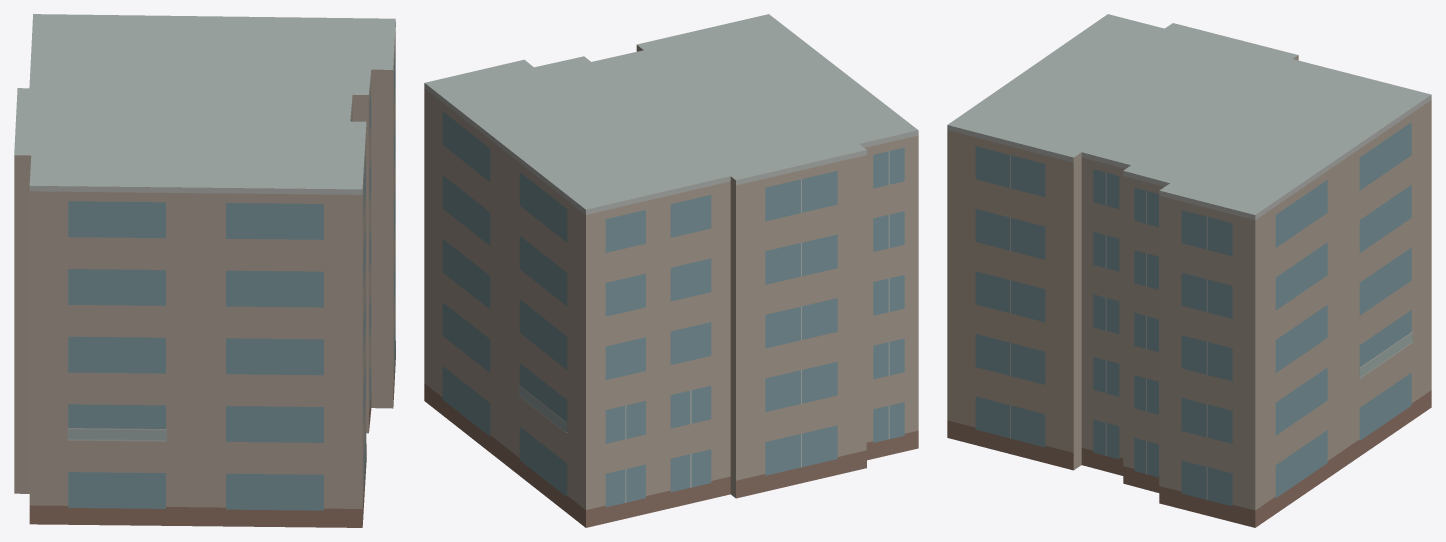
Rendered from survey-upis-32971404.glb.
The picture shows the model from 3 angles, left to right: view 1: azimuth 30°, elevation 25°; view 2: azimuth 150°, elevation 25°; view 3: azimuth 270°, elevation 25°; orthographic projection. The views are drawn at different scales.
Parts seen in each view (by area): view 1: survey-upis-32971404.tmp; view 2: survey-upis-32971404.tmp; view 3: survey-upis-32971404.tmp.
Part boxes in pixels (left/top/right/bottom): survey-upis-32971404.tmp: left=14, top=14, right=395, bottom=527; survey-upis-32971404.tmp: left=424, top=14, right=918, bottom=527; survey-upis-32971404.tmp: left=947, top=14, right=1431, bottom=527.
Size of the model in its own units: 20.62 by 14.95 by 20.99.
